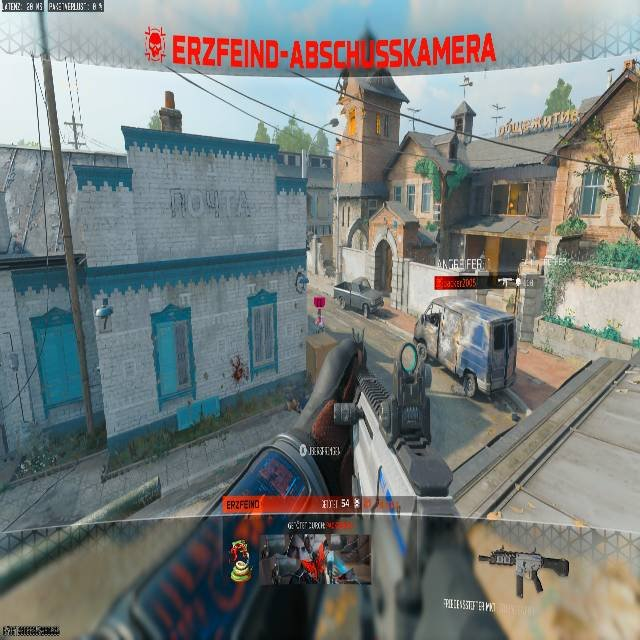player: (230, 353, 244, 381), (295, 270, 308, 294)
